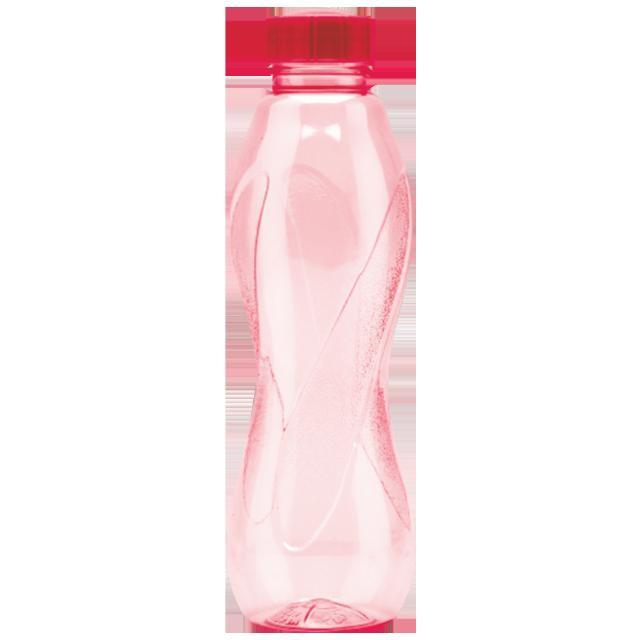Botella de plastico: (240, 8, 413, 635)
